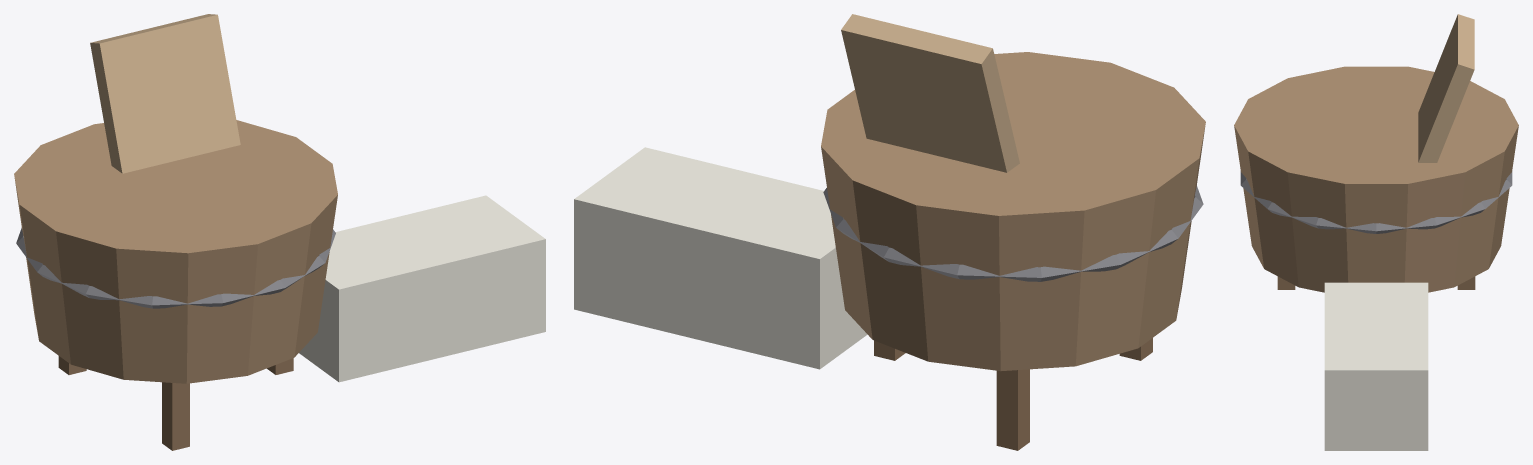
The model's file is wash_tub.glb.
3 renders of one model, left to right at view 1: azimuth 30°, elevation 25°; view 2: azimuth 150°, elevation 25°; view 3: azimuth 270°, elevation 25°, orthographic. The views are drawn at different scales.
Visible parts, largest first — view 1: wash_tub; view 2: wash_tub; view 3: wash_tub.
Boxes of the visible parts, <box> form: wash_tub: <box>14,14,545,450</box>; wash_tub: <box>574,14,1205,450</box>; wash_tub: <box>1234,14,1518,450</box>.
Size of the model in its own units: 1.62 by 1.05 by 0.96.
